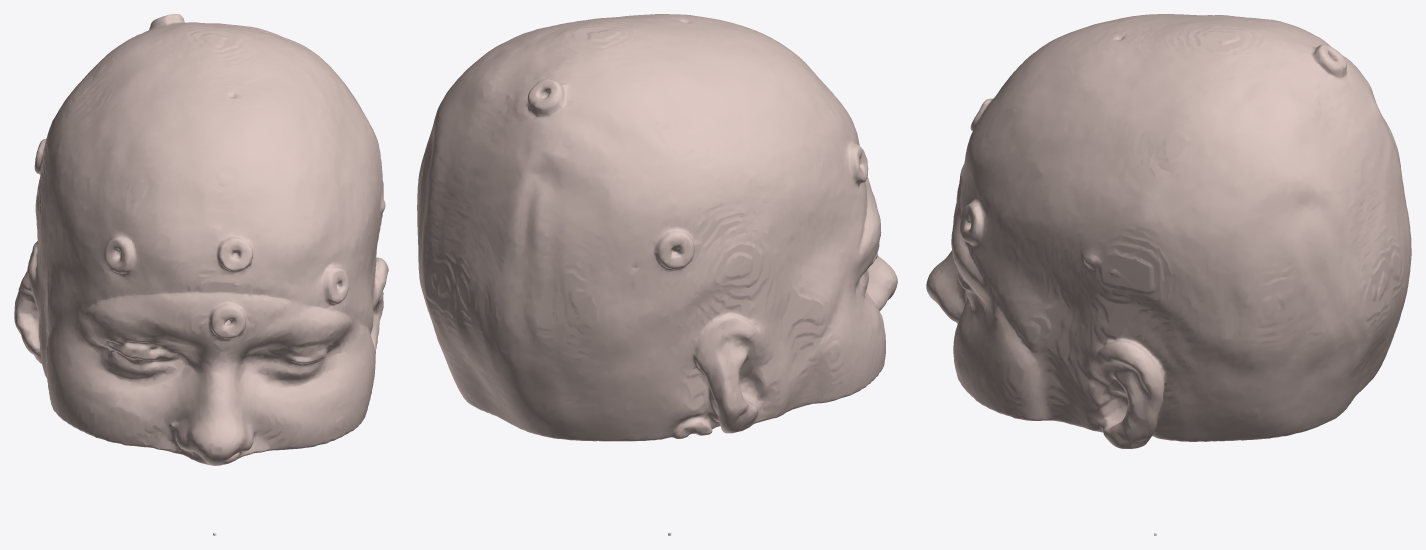
The model's file is tim_sf.glb.
The picture shows the model from 3 angles, left to right: view 1: azimuth 30°, elevation 25°; view 2: azimuth 150°, elevation 25°; view 3: azimuth 270°, elevation 25°; orthographic projection. The views are drawn at different scales.
Parts seen in each view (by area): view 1: world_14; view 2: world_14; view 3: world_14.
Part boxes in pixels (x1,y1,x2,y2): world_14: (14,14,388,465); world_14: (417,14,897,441); world_14: (926,14,1411,448).
Bounding box in the file's own units: 0.2102 × 0.275 × 0.2344.
